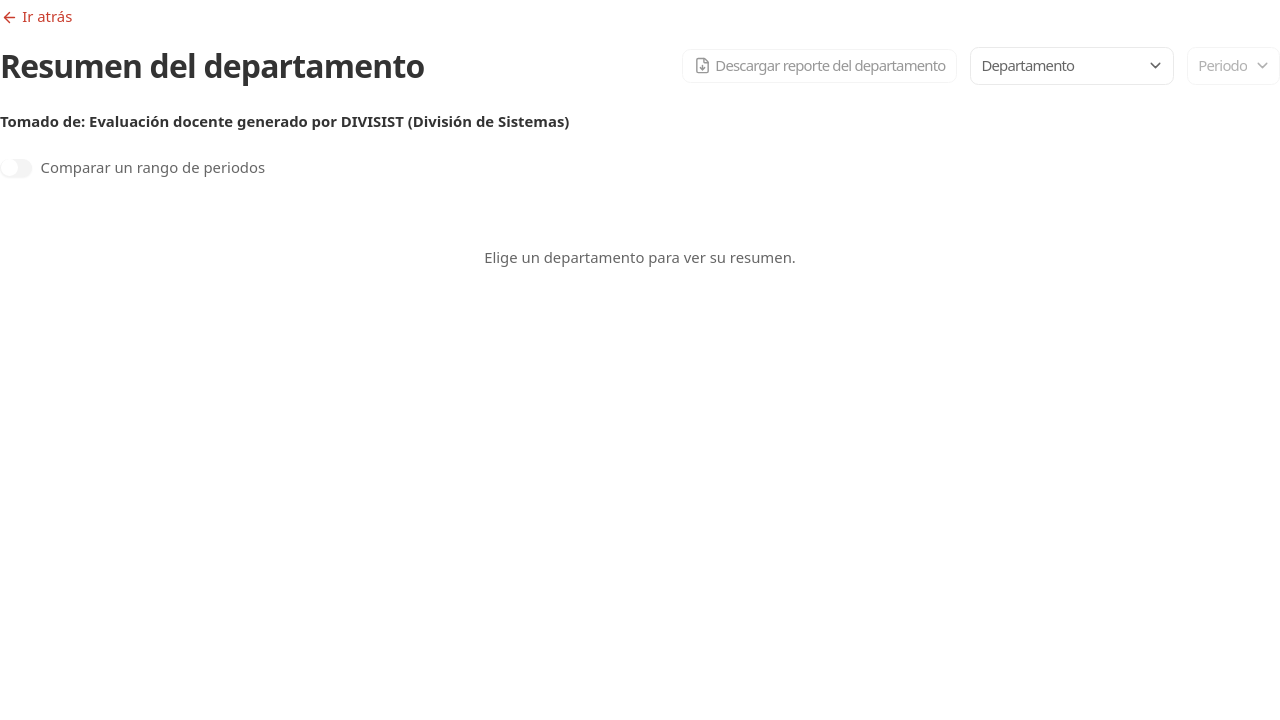
Test: DepartmentPeriodRangeSummary › drops the previous department’s report when switching to one without evaluations
Click the dropdown labelled "Departamento" at [1060, 66], box [982, 47, 1139, 85]
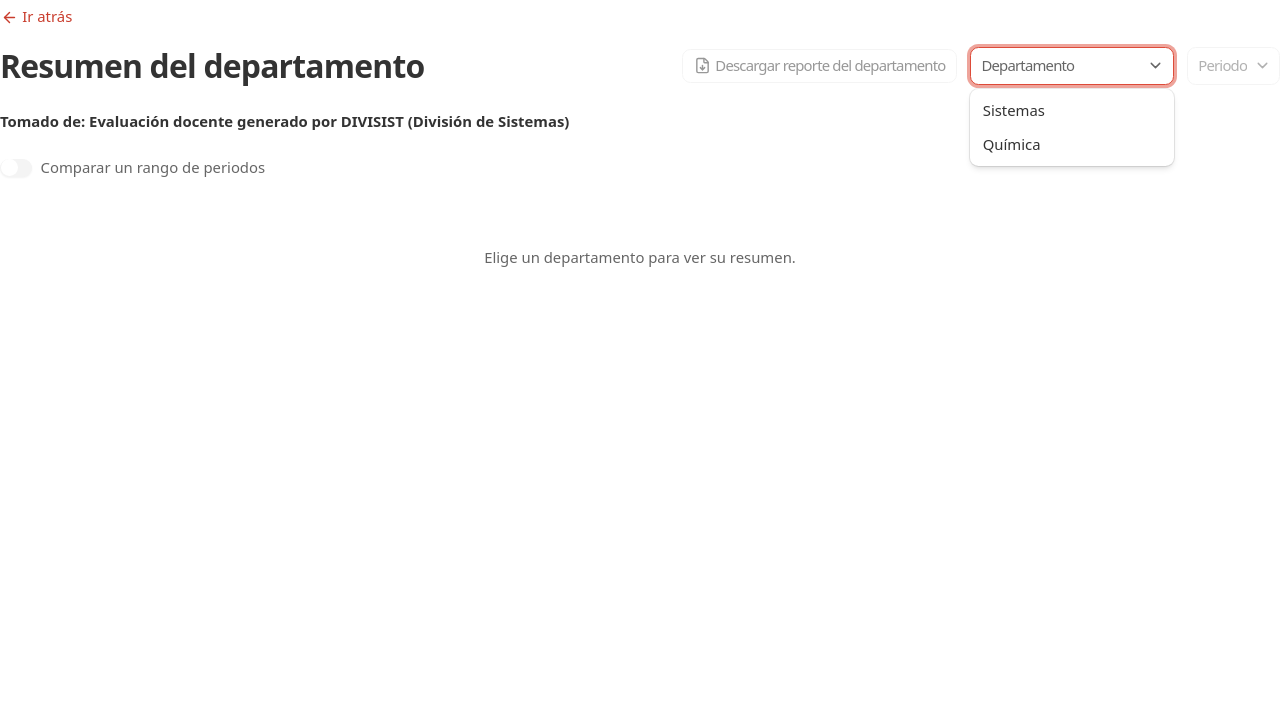
Click the option "Sistemas" at [1014, 110], box [983, 100, 1045, 120]
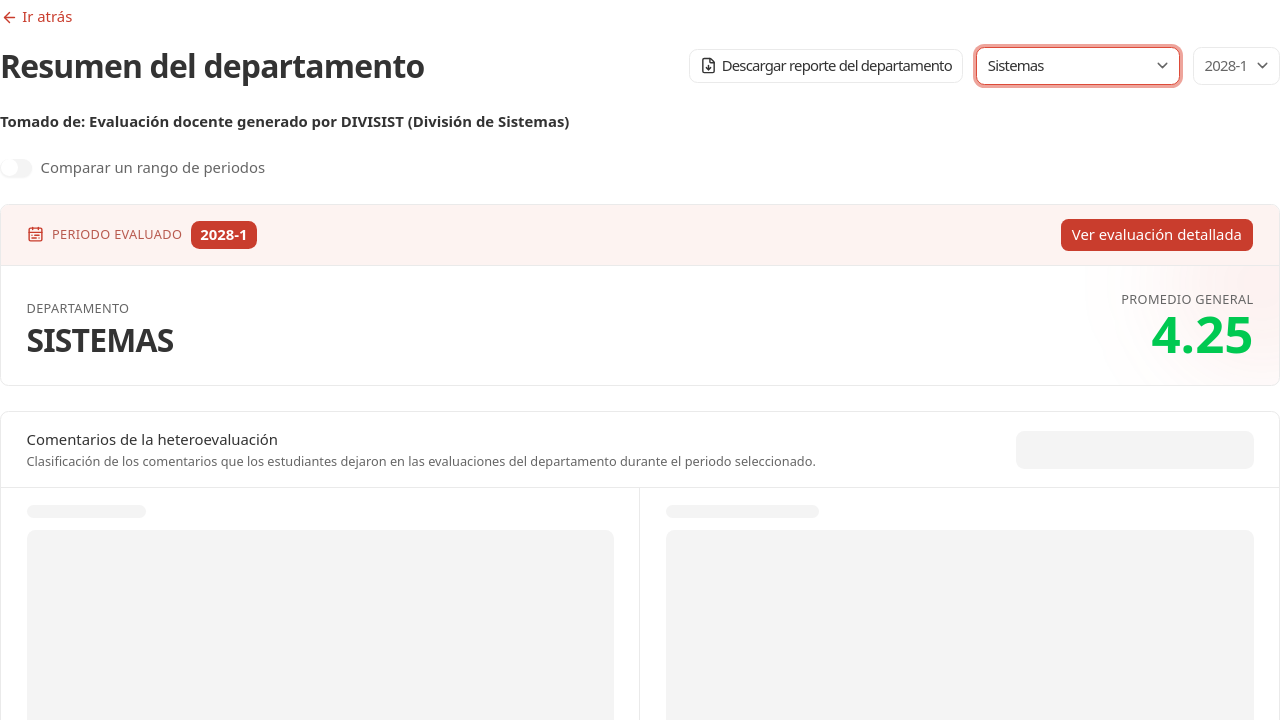
Click the dropdown named "Departamento" at [1067, 66], box [988, 47, 1145, 85]
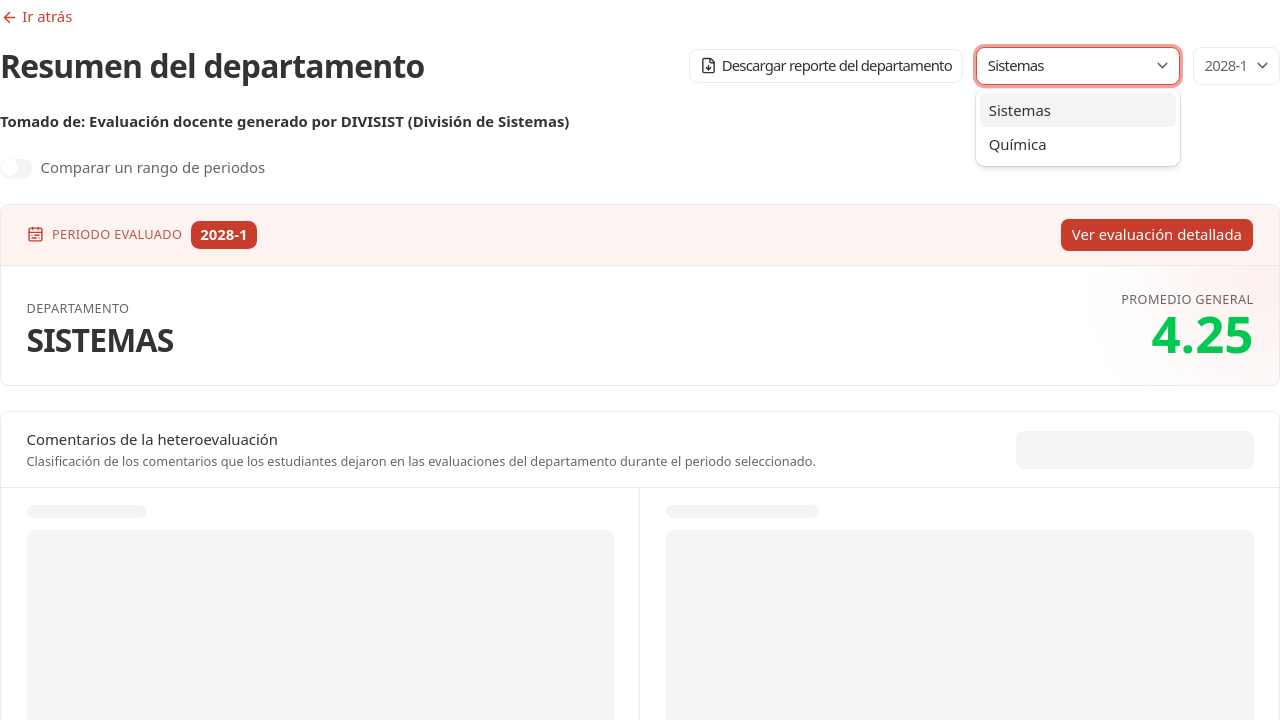
Click the option "Química" at [1018, 144], box [989, 134, 1047, 154]
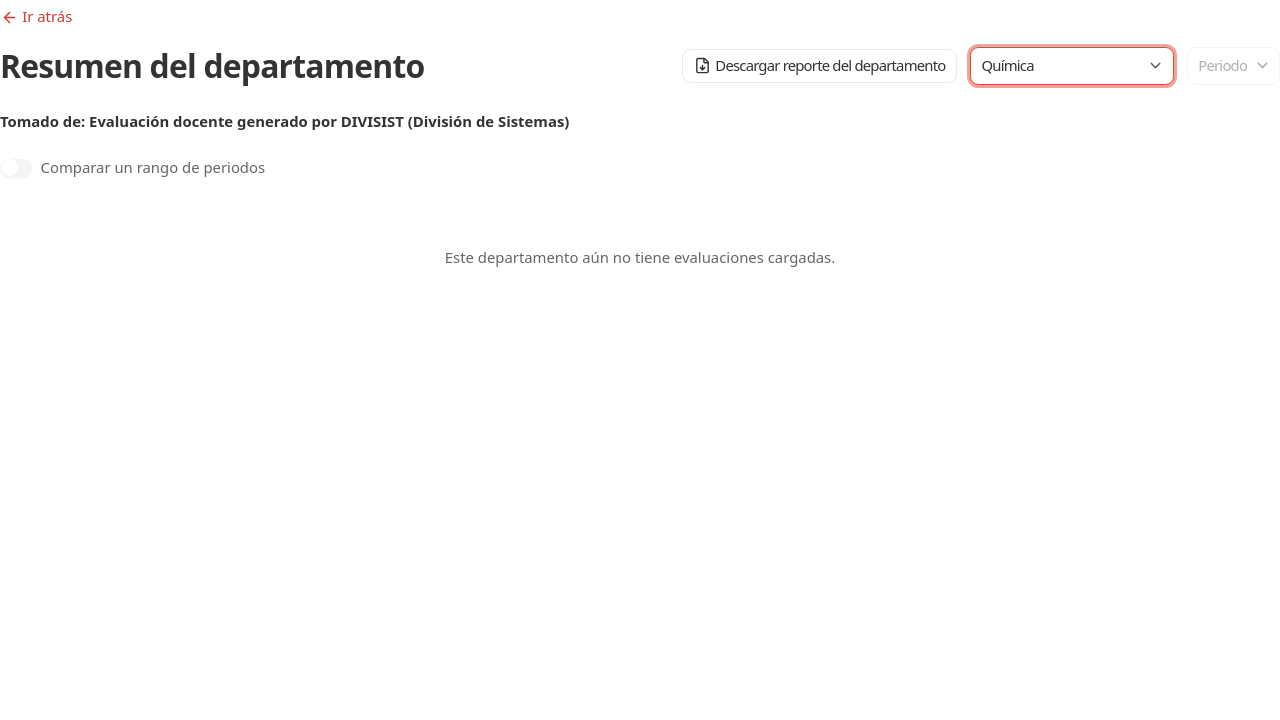
expect the text "Este departamento aún no tiene evaluaciones cargadas." is shown: met, box [445, 246, 835, 266]
